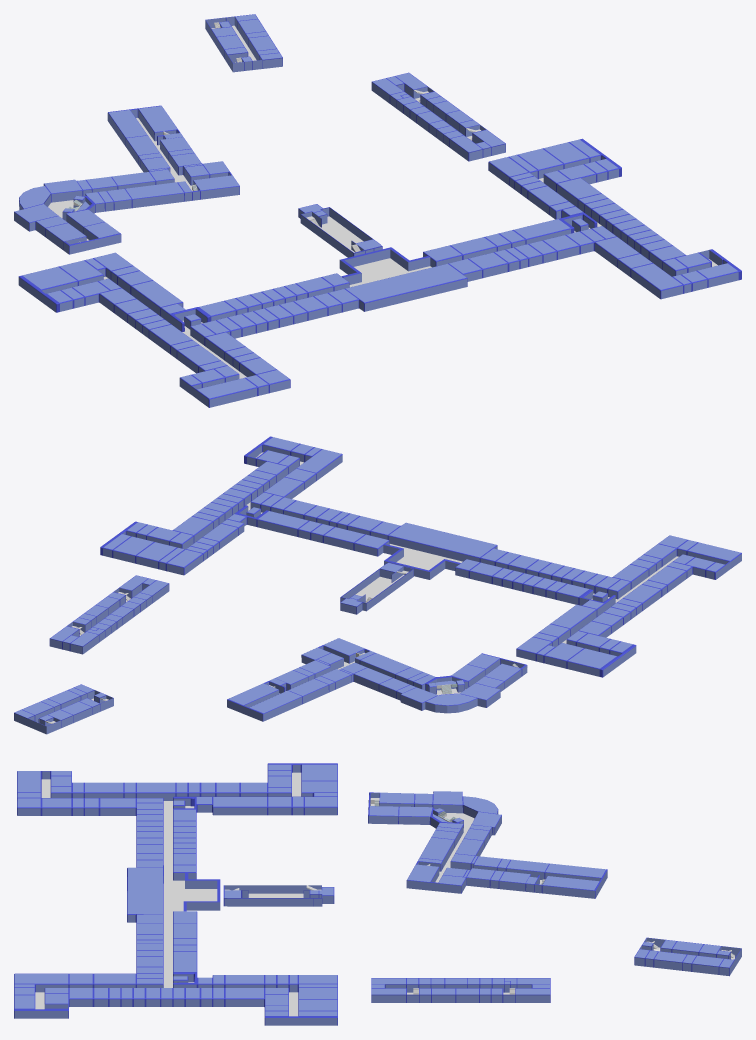
File: dstu_4.glb
3 views of the same model, one above another, from view 1: azimuth 30°, elevation 25°; view 2: azimuth 150°, elevation 25°; view 3: azimuth 270°, elevation 25° (orthographic). The views are drawn at different scales.
Parts seen in each view (by area): view 1: Plane.006, Plane.001, 4, 64, K4; view 2: Plane.006, Plane.001, 4, 64, K4; view 3: Plane.006, Plane.001, 4, 64, K4.
Boxes of the visible parts, x1,y1,x2,y2 form: Plane.006: (18,138,741,407); Plane.001: (14,105,239,254); 4: (371,72,505,161); 64: (205,14,282,72); K4: (298,204,382,257); Plane.006: (100,436,741,677); Plane.001: (227,638,527,721); 4: (49,575,169,654); 64: (14,684,113,734); K4: (340,562,413,614); Plane.006: (14,763,337,1025); Plane.001: (368,791,607,898); 4: (371,978,550,1002); 64: (634,937,741,976); K4: (223,885,334,906).
Bounding box in the file's own units: 197 × 5.07 × 238.
